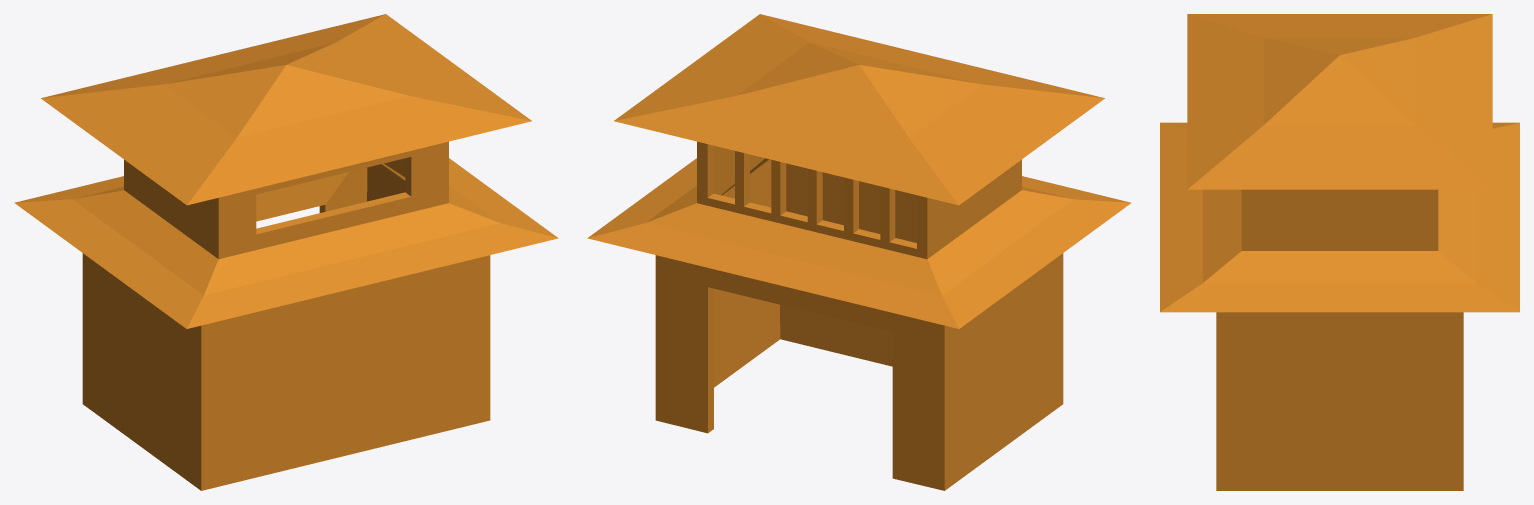
The model's file is Temple.fbx.
3 renders of one model, left to right at view 1: azimuth 30°, elevation 25°; view 2: azimuth 150°, elevation 25°; view 3: azimuth 270°, elevation 25°, orthographic. The views are drawn at different scales.
Visible parts, largest first — view 1: Temple; view 2: Temple; view 3: Temple.
Boxes of the visible parts, left/top/right/bottom form: Temple: left=14, top=14, right=558, bottom=490; Temple: left=587, top=14, right=1131, bottom=490; Temple: left=1160, top=14, right=1519, bottom=490.
Size of the model in its own units: 97.87 by 87.4 by 78.63.
